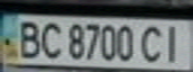0: (115, 21, 139, 63), (100, 21, 118, 62)
7: (81, 20, 103, 61)
8: (63, 20, 87, 60)
B: (12, 17, 45, 59)
C: (139, 22, 169, 63), (36, 19, 63, 58)
I: (157, 21, 190, 63)
